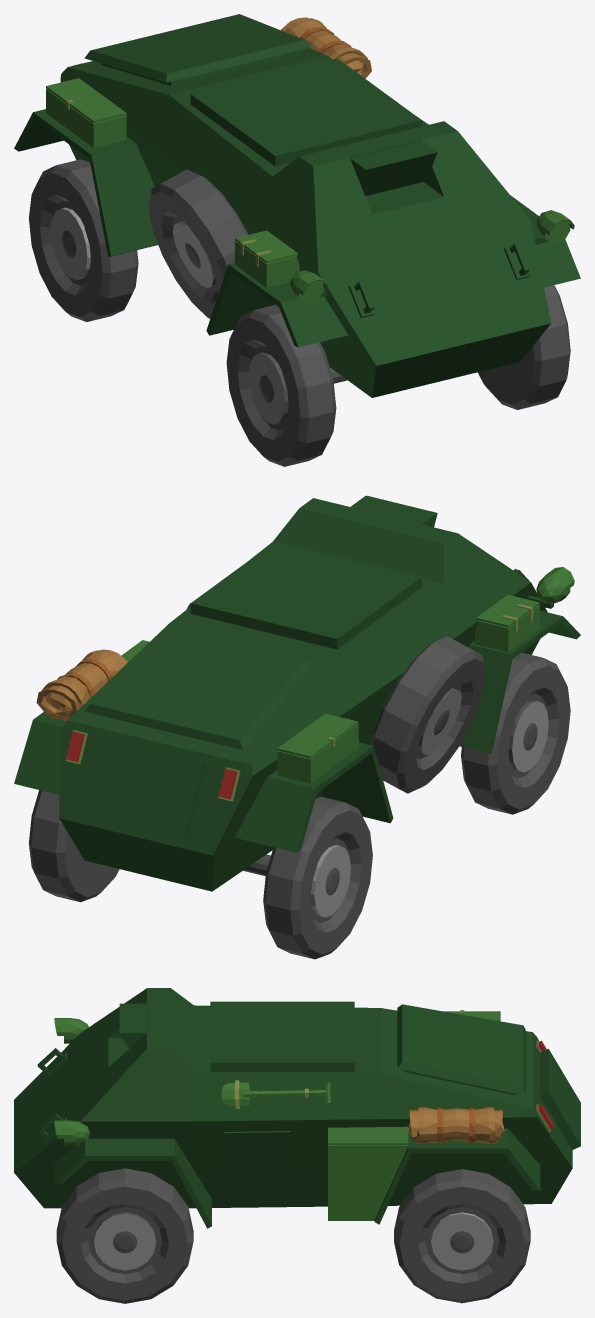
The model's file is Humber Armoured Car Finishing 3 body.fbx.
The picture shows the model from 3 angles, top to bottom: view 1: azimuth 30°, elevation 25°; view 2: azimuth 150°, elevation 25°; view 3: azimuth 270°, elevation 25°; orthographic projection. The views are drawn at different scales.
Parts seen in each view (by area): view 1: badan; view 2: badan; view 3: badan.
Boxes of the visible parts, x1=… form: badan: x1=14, y1=14, x2=580, y2=466; badan: x1=14, y1=495, x2=580, y2=959; badan: x1=14, y1=988, x2=580, y2=1303.
Size of the model in its own units: 227 by 204 by 454.
